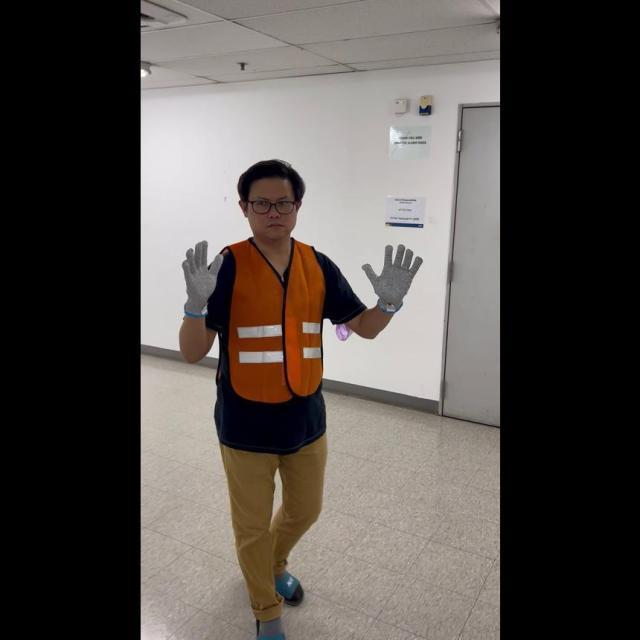gloved_hand: (359, 239, 421, 309), (178, 235, 223, 316)
